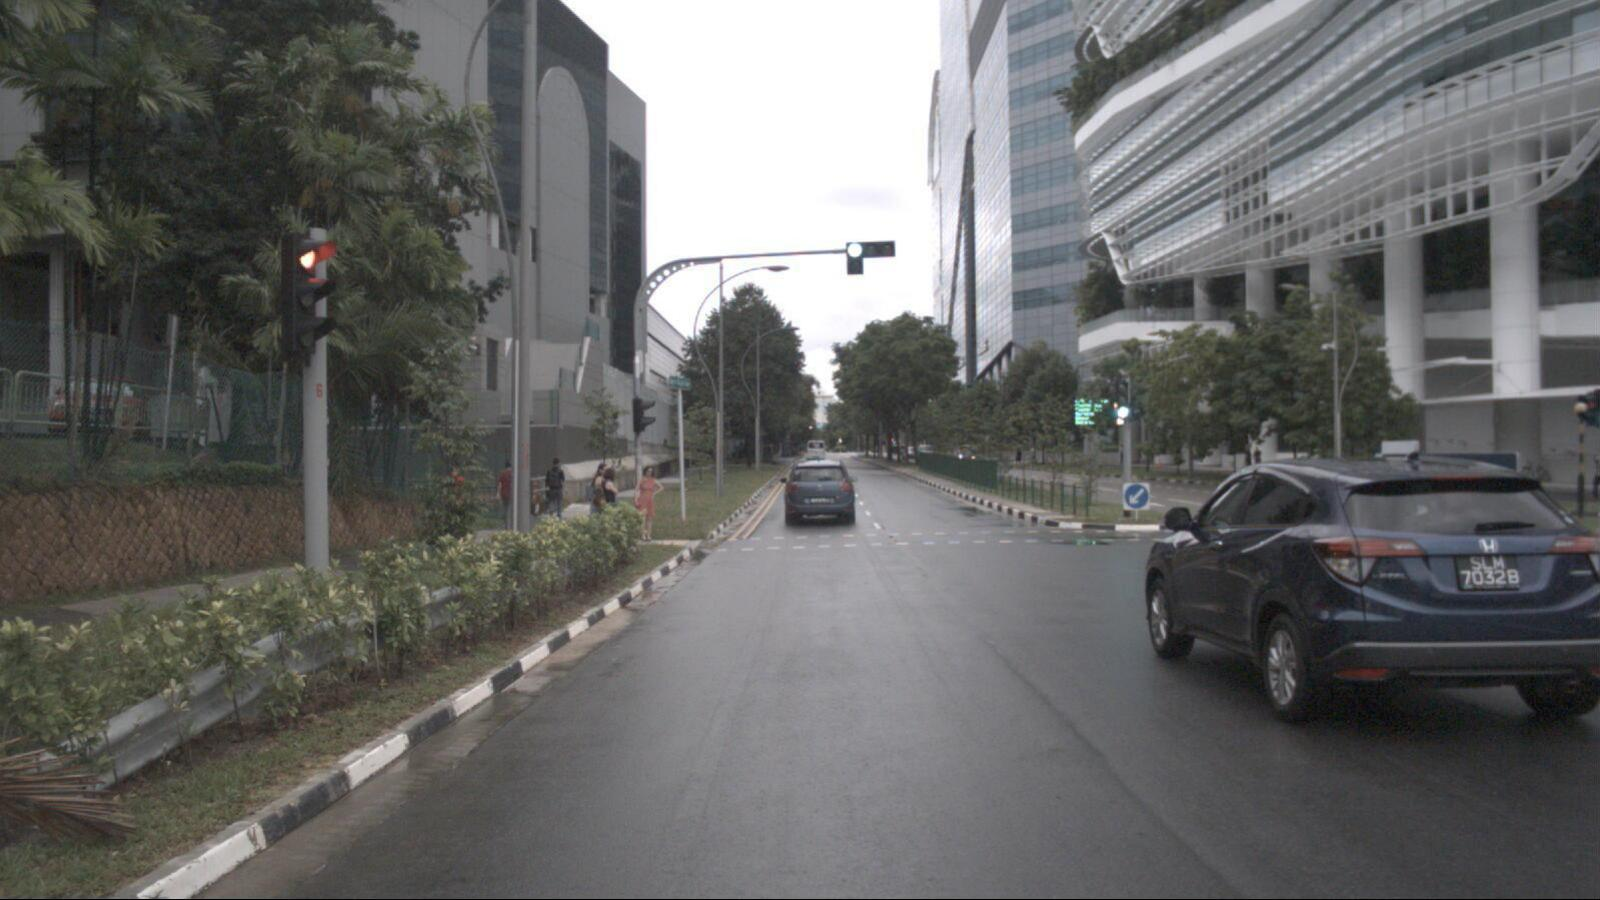human.pedestrian.adult-pedestrian.moving: (497, 461, 519, 533), (544, 458, 568, 522), (1252, 447, 1262, 469), (1014, 448, 1022, 465)
human.pedestrian.adult-pedestrian.standing: (634, 466, 664, 541), (603, 468, 623, 541), (591, 464, 609, 539), (1119, 445, 1126, 466)
